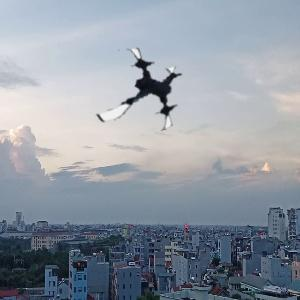drone: (91, 44, 190, 143)
